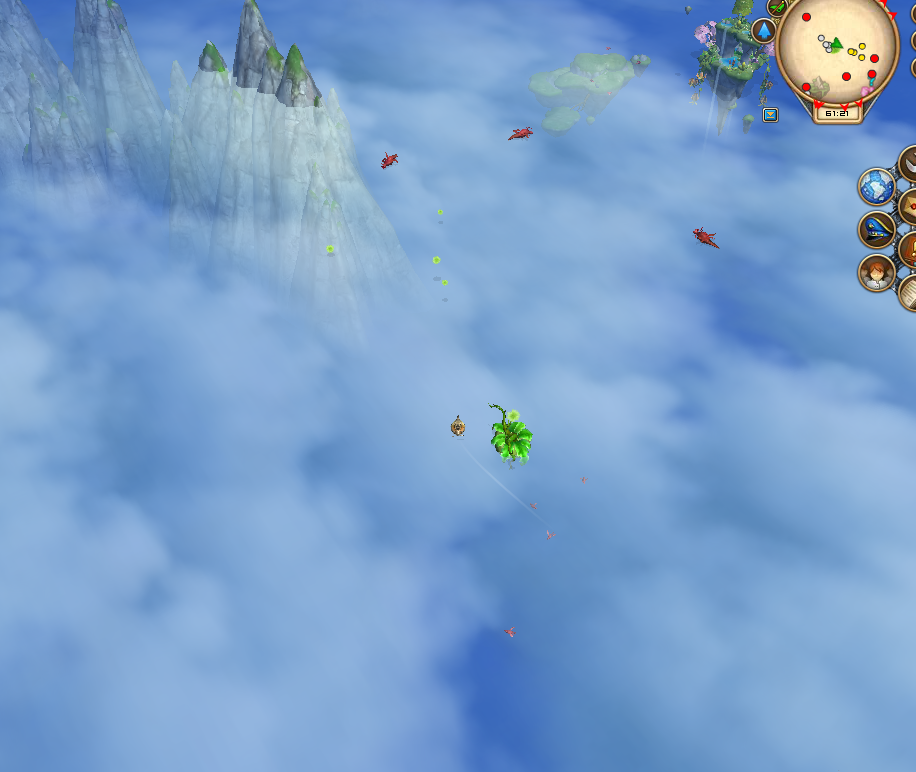dandelion-full: (484, 397, 537, 468)
fluff: (428, 251, 445, 268), (324, 243, 338, 259), (433, 207, 447, 221), (438, 276, 452, 289)
